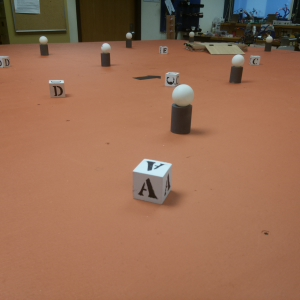blockA: (132, 156, 174, 206)
blockC: (167, 72, 180, 86), (250, 55, 261, 65)
blockD: (48, 79, 65, 99), (1, 56, 9, 69)
blockE: (158, 45, 168, 56)
corner: (166, 13, 176, 42)
obstacle: (170, 84, 191, 137), (229, 55, 244, 84), (101, 43, 111, 66), (38, 36, 48, 58), (264, 35, 273, 51), (125, 32, 134, 48), (189, 30, 195, 42)
slope: (204, 44, 242, 55)
start: (135, 74, 161, 80)
